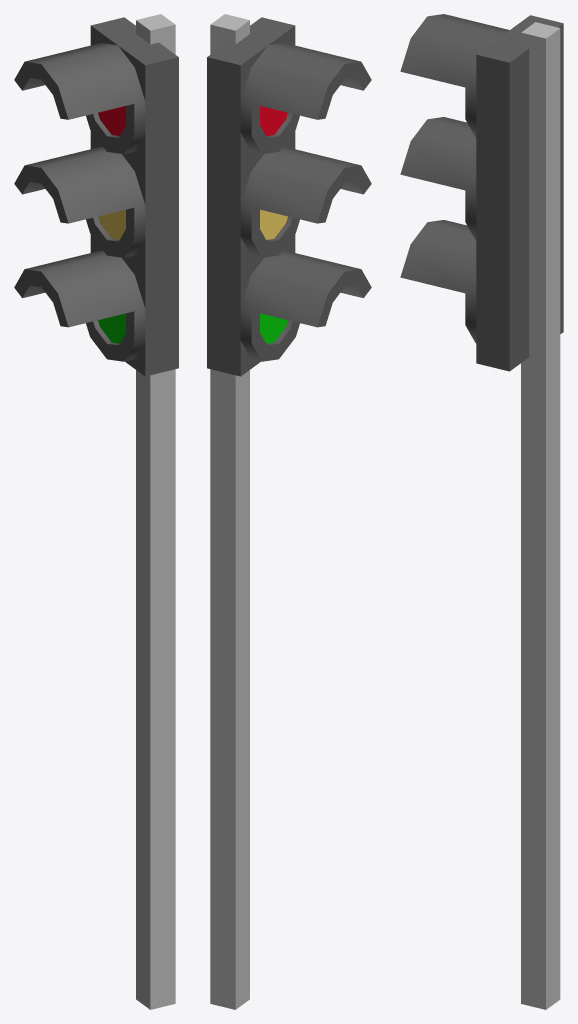
The model's file is traffic_lights_1.fbx.
3 views of the same model, side by side, from view 1: azimuth 30°, elevation 25°; view 2: azimuth 150°, elevation 25°; view 3: azimuth 330°, elevation 25° (orthographic).
Visible parts, largest first — view 1: traffic_lights_1; view 2: traffic_lights_1; view 3: traffic_lights_1.
Boxes of the visible parts, <box> form: traffic_lights_1: <box>14,14,178,1009</box>; traffic_lights_1: <box>207,14,371,1009</box>; traffic_lights_1: <box>400,14,563,1009</box>.
Size of the model in its own units: 0.461 by 3.4 by 0.3424.
